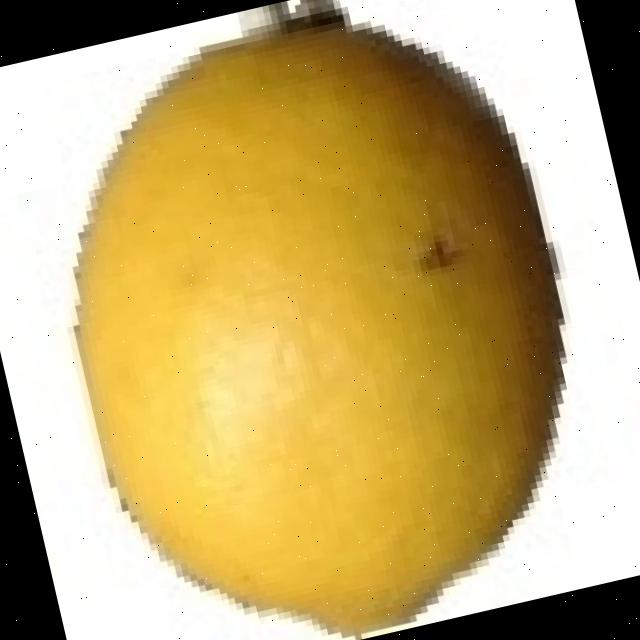lemon: (76, 10, 562, 635)
